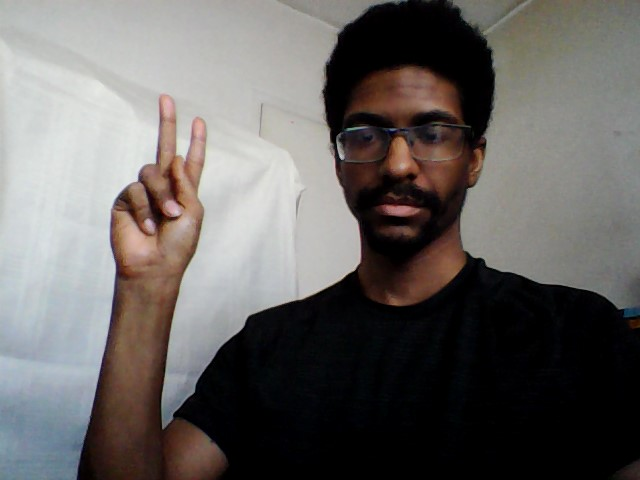k: (103, 91, 212, 288)
